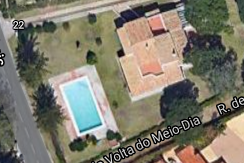pool: (63, 85, 97, 126)
